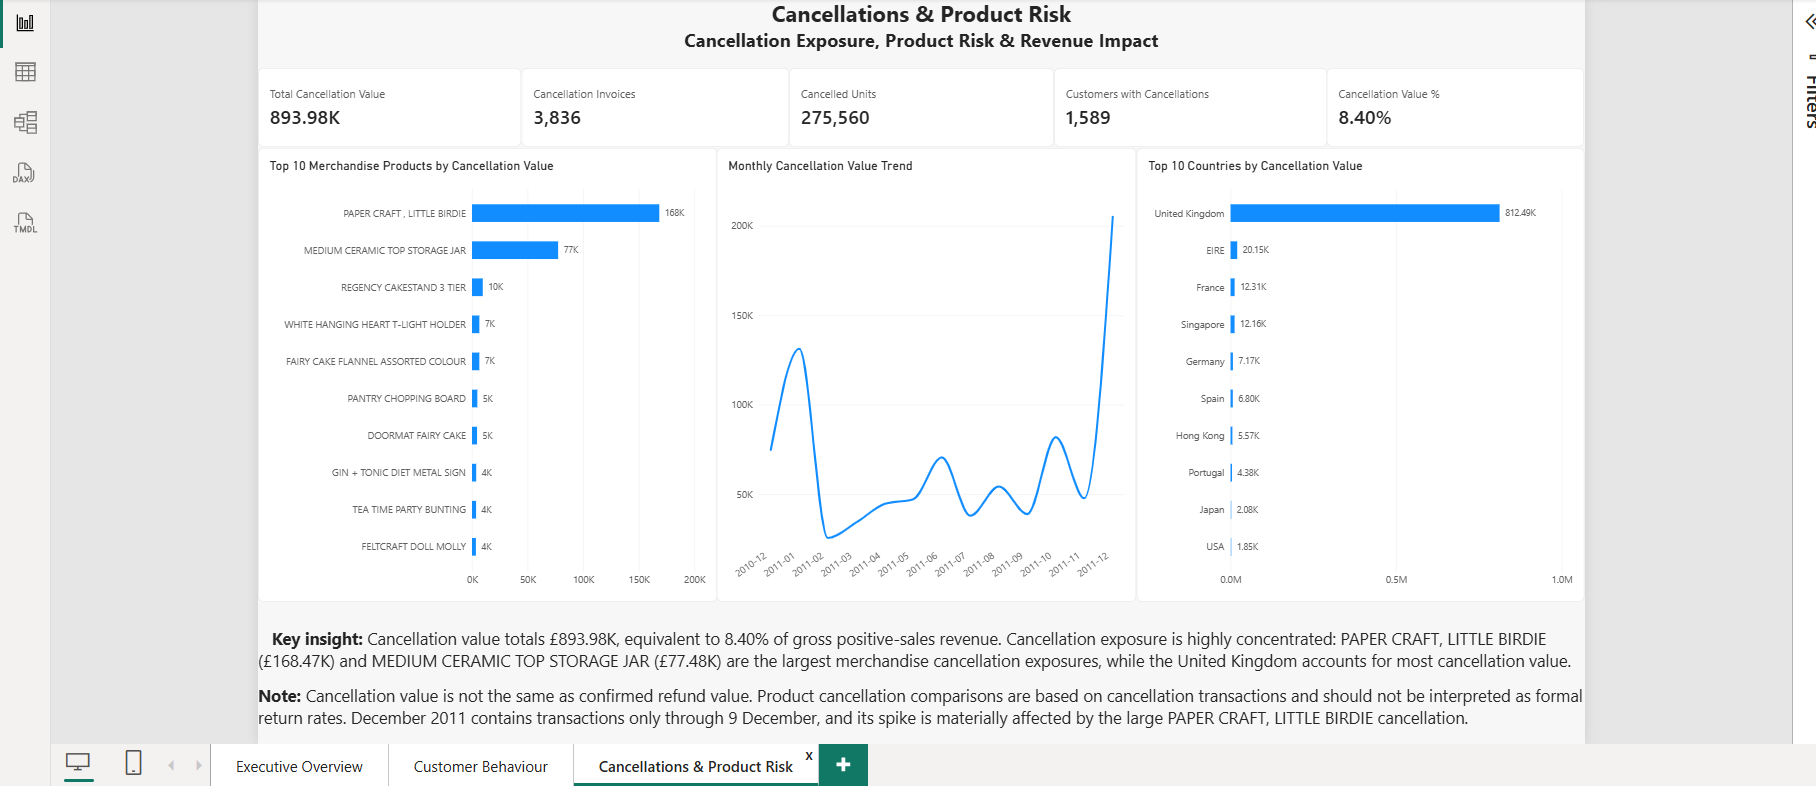

Layout of this report page (visuals, bound fields, positions):
{"tool":"powerbi","page":{"name":"Cancellations & Product Risk","canvas":[1920,1080],"ordinal":2},"visuals":[{"type":"textbox","box":[0,0,1920.8,102.1],"z":0},{"type":"cardVisual","fields":{"Data":["Cancellations.Total Cancellation Value"]},"box":[0,102.1,381.2,114.6],"z":1},{"type":"cardVisual","fields":{"Data":["Cancellations.Cancellation Invoices"]},"box":[381.2,102.1,387.5,114.6],"z":2},{"type":"cardVisual","fields":{"Data":["Cancellations.Cancelled Units"]},"box":[768.8,102.1,383.3,114.6],"z":3},{"type":"cardVisual","fields":{"Data":["Cancellations.Customers with Cancellations"]},"box":[1152.1,102.1,395.8,114.6],"z":4},{"type":"cardVisual","fields":{"Data":["Sales.Cancellation Value %"]},"box":[1547.9,102.1,372.9,114.6],"z":5},{"type":"clusteredBarChart","title":"Top 10 Merchandise Products by Cancellation Value","fields":{"Category":["Cancellations.Description"],"Y":["Cancellations.Merchandise Cancellation Value"]},"box":[0,216.8,664.9,656.7],"z":6},{"type":"lineChart","title":"Monthly Cancellation Value Trend","fields":{"Category":["Date.YearMonth"],"Y":["Cancellations.Total Cancellation Value"]},"box":[664.9,216.8,607.1,656.7],"z":7},{"type":"clusteredBarChart","title":"Top 10 Countries by Cancellation Value","fields":{"Category":["Cancellations.Country"],"Y":["Cancellations.Total Cancellation Value"]},"box":[1272,216.8,648.4,656.7],"z":8},{"type":"textbox","box":[0,873.5,1920.4,206.5],"z":9}]}

Visuals, with their boxes on the page's 1920x1080 design canvas (x1, y1, x2, y2). These are canvas units, not pixel positions in the 1816x786 screenshot, which may show the page scaled, cropped or inside an application window:
textbox: left=0, top=0, right=1921, bottom=102
cardVisual - Cancellations.Total Cancellation Value: left=0, top=102, right=381, bottom=217
cardVisual - Cancellations.Cancellation Invoices: left=381, top=102, right=769, bottom=217
cardVisual - Cancellations.Cancelled Units: left=769, top=102, right=1152, bottom=217
cardVisual - Cancellations.Customers with Cancellations: left=1152, top=102, right=1548, bottom=217
cardVisual - Sales.Cancellation Value %: left=1548, top=102, right=1921, bottom=217
"Top 10 Merchandise Products by Cancellation Value" clusteredBarChart: left=0, top=217, right=665, bottom=874
"Monthly Cancellation Value Trend" lineChart: left=665, top=217, right=1272, bottom=874
"Top 10 Countries by Cancellation Value" clusteredBarChart: left=1272, top=217, right=1920, bottom=874
textbox: left=0, top=874, right=1920, bottom=1080
